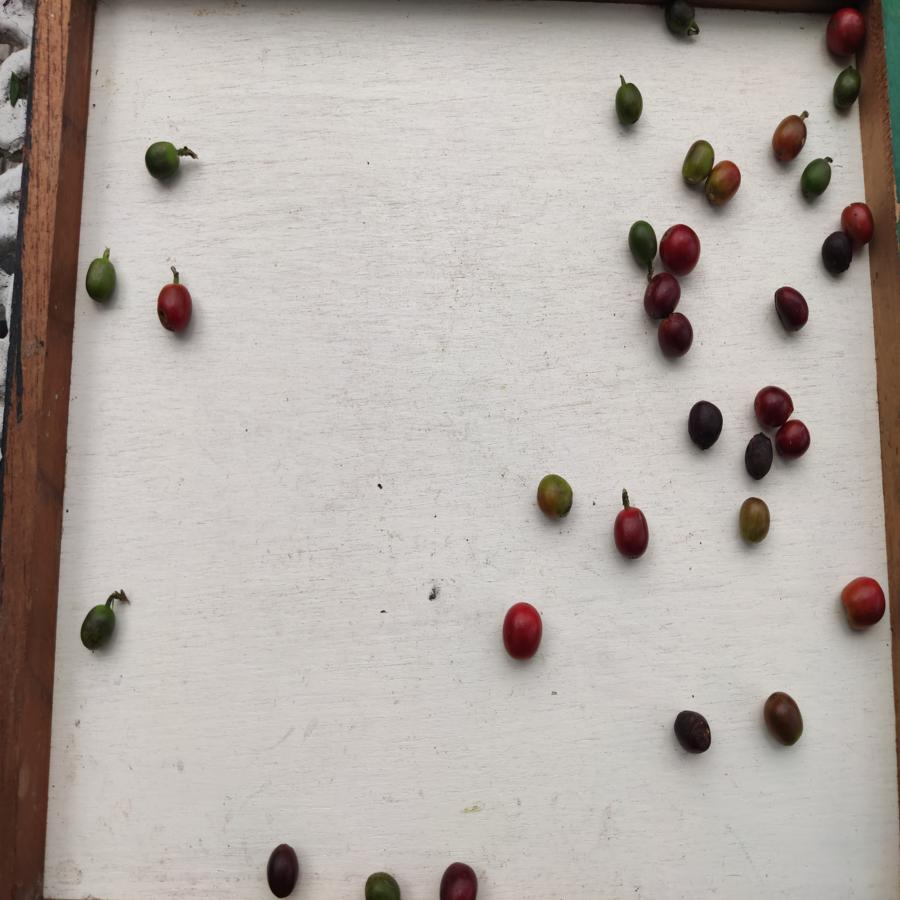Inmaduro: (78, 603, 116, 655), (613, 81, 645, 129), (662, 1, 701, 40), (144, 138, 181, 179), (800, 158, 835, 201), (626, 220, 657, 267), (86, 257, 118, 302), (833, 65, 861, 113), (364, 869, 403, 900)
Maduro: (500, 601, 544, 661), (840, 576, 888, 631), (611, 506, 651, 563), (660, 224, 701, 276), (155, 282, 195, 334), (824, 9, 864, 55), (849, 201, 877, 243)
Pinton: (532, 475, 581, 520), (734, 495, 772, 547), (770, 114, 806, 160), (706, 159, 741, 204), (682, 139, 714, 183)
Sobremaduro: (762, 689, 804, 748), (264, 844, 305, 900), (684, 400, 724, 451), (673, 710, 717, 755), (653, 310, 694, 357), (641, 273, 686, 315), (772, 284, 810, 331), (752, 385, 794, 427), (436, 863, 483, 900), (743, 433, 774, 483), (820, 232, 854, 277), (773, 422, 811, 462)
